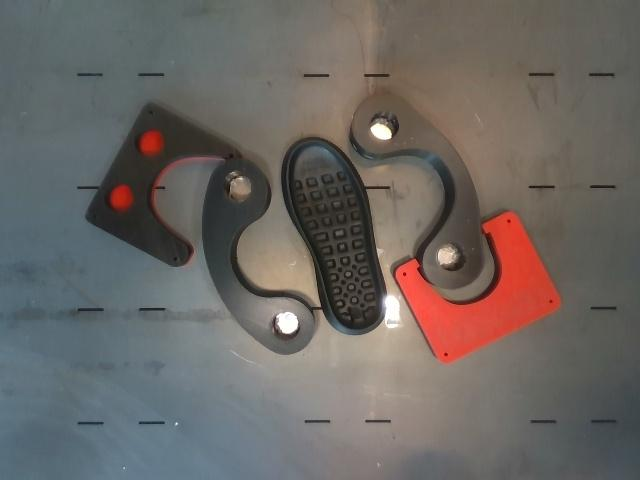shoes: (288, 141, 382, 328)
